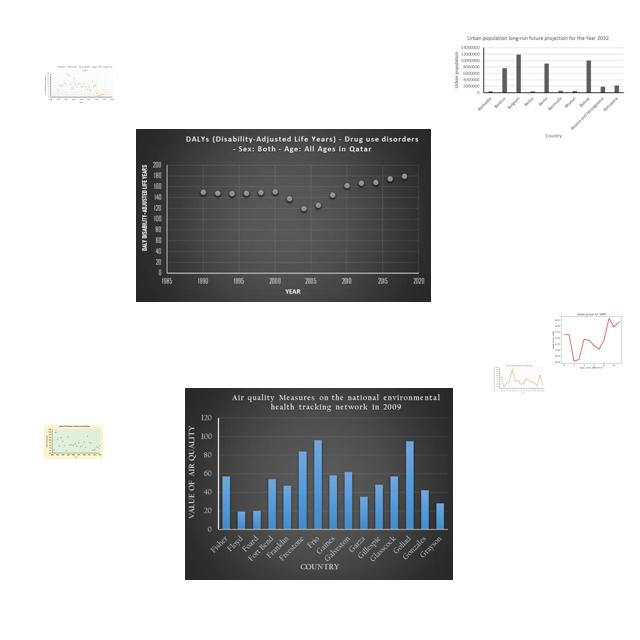Graph: (185, 388, 453, 580), (136, 129, 431, 302), (450, 32, 627, 141), (550, 309, 631, 370), (43, 63, 115, 105), (44, 425, 103, 459), (493, 365, 545, 394)
